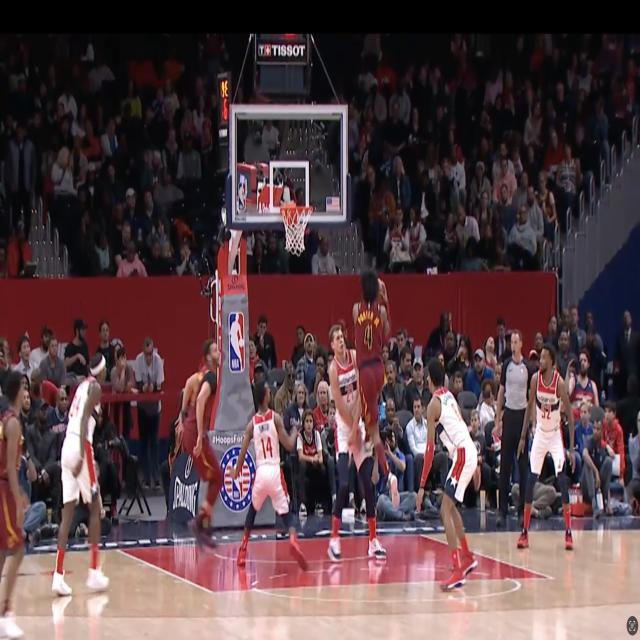foul: (325, 268, 385, 555)
